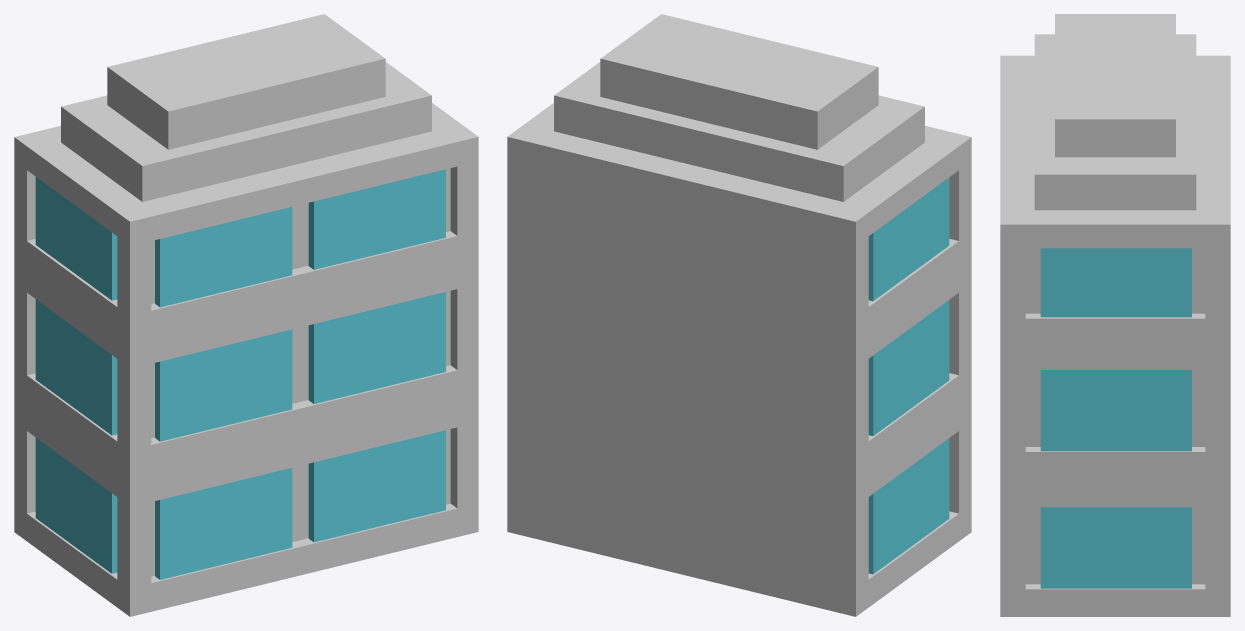
File: BigHouseTop.fbx
3 views of the same model, side by side, from view 1: azimuth 30°, elevation 25°; view 2: azimuth 150°, elevation 25°; view 3: azimuth 270°, elevation 25° (orthographic).
Parts seen in each view (by area): view 1: pCube67, pCube68; view 2: pCube67, pCube68; view 3: pCube67, pCube68.
Part boxes in pixels (x1,y1,x2,y2): pCube67: [14, 14, 478, 616]; pCube68: [35, 169, 445, 579]; pCube67: [507, 14, 971, 616]; pCube68: [868, 177, 949, 574]; pCube67: [1000, 14, 1230, 616]; pCube68: [1040, 248, 1191, 588].
Size of the model in its own units: 10.26 by 13.19 by 5.9.
